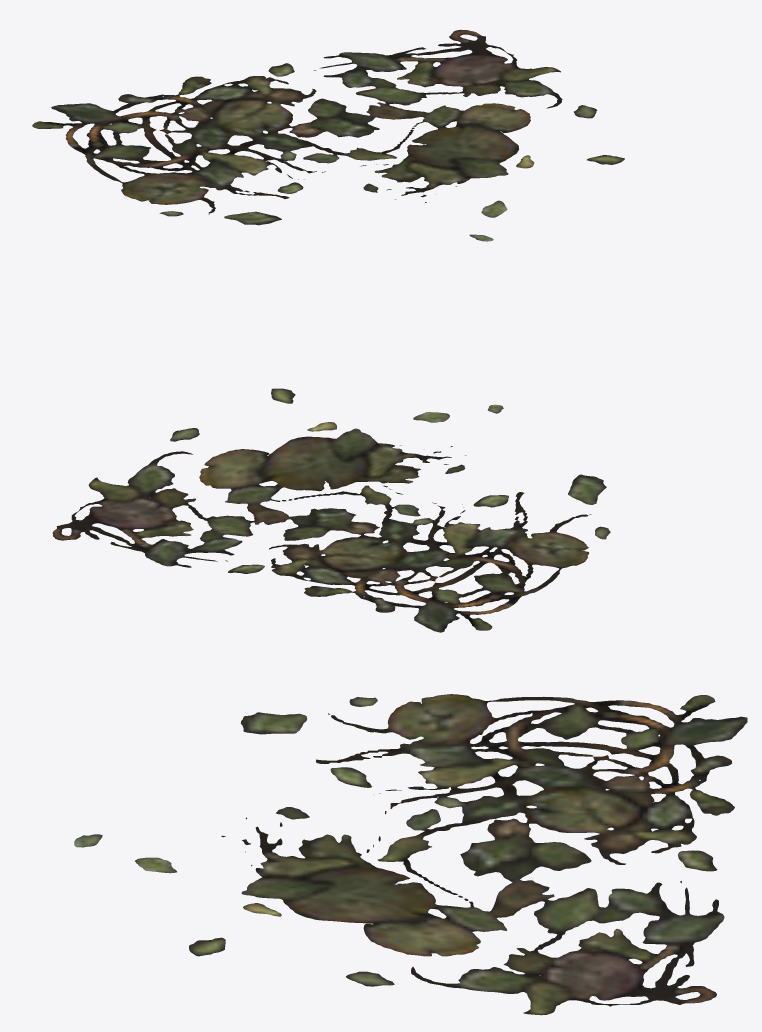
The model's file is cao04.fbx.
3 renders of one model, top to bottom at view 1: azimuth 30°, elevation 25°; view 2: azimuth 150°, elevation 25°; view 3: azimuth 270°, elevation 25°, orthographic. The views are drawn at different scales.
Visible parts, largest first — view 1: cao04; view 2: cao04; view 3: cao04.
Boxes of the visible parts, bbox=[...] form: cao04: bbox=[32, 29, 624, 241]; cao04: bbox=[52, 388, 610, 632]; cao04: bbox=[74, 694, 747, 1015].
Bounding box in the file's own units: 392 × 21.72 × 392.
